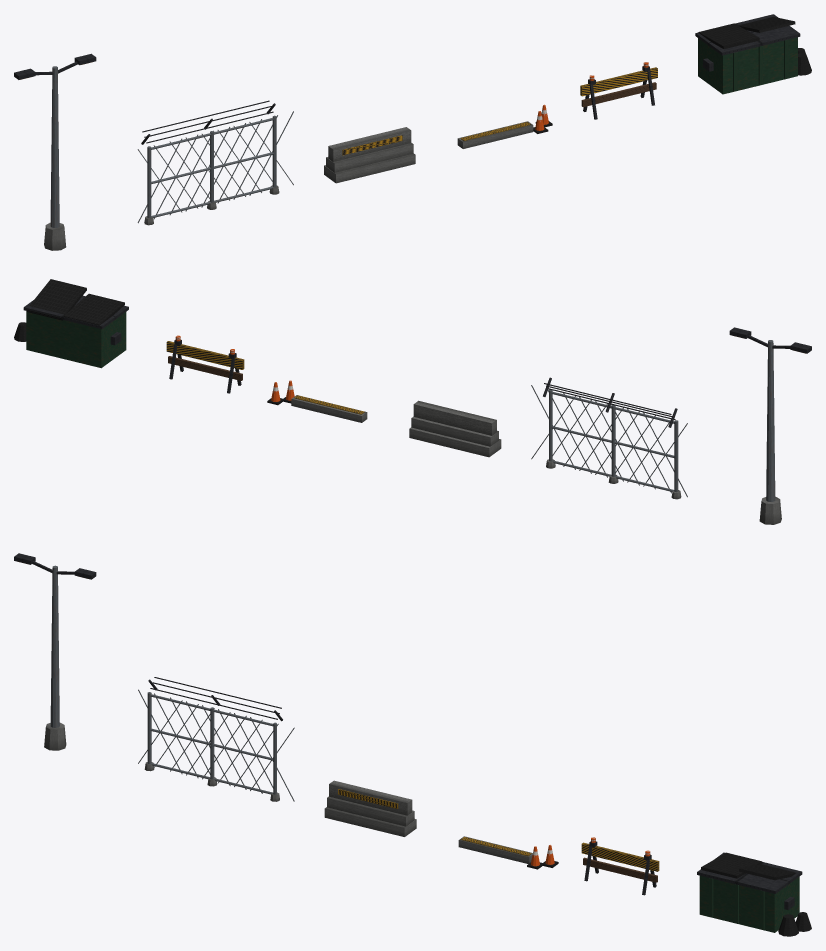
Rendered from Lobby_Pack3_ParkingBorders.fbx.
The picture shows the model from 3 angles, top to bottom: view 1: azimuth 30°, elevation 25°; view 2: azimuth 150°, elevation 25°; view 3: azimuth 330°, elevation 25°; orthographic projection.
Parts seen in each view (by area): view 1: Lobby_Prop_Dumpster, Lobby_Border_ChainFence, Lobby_Border_JerseyBarrier, Lobby_Lot_StreetLamp, Lobby_Prop_SawhorseBarricade, Lobby_Prop_WheelStopAndCone; view 2: Lobby_Prop_Dumpster, Lobby_Border_ChainFence, Lobby_Border_JerseyBarrier, Lobby_Lot_StreetLamp, Lobby_Prop_SawhorseBarricade, Lobby_Prop_WheelStopAndCone; view 3: Lobby_Prop_Dumpster, Lobby_Border_ChainFence, Lobby_Border_JerseyBarrier, Lobby_Lot_StreetLamp, Lobby_Prop_SawhorseBarricade, Lobby_Prop_WheelStopAndCone.
Boxes of the visible parts, left/top/right/bottom form: Lobby_Prop_Dumpster: left=695, top=14, right=811, bottom=94; Lobby_Border_ChainFence: left=137, top=100, right=293, bottom=225; Lobby_Border_JerseyBarrier: left=324, top=127, right=415, bottom=183; Lobby_Lot_StreetLamp: left=14, top=53, right=96, bottom=250; Lobby_Prop_SawhorseBarricade: left=580, top=62, right=657, bottom=119; Lobby_Prop_WheelStopAndCone: left=457, top=104, right=552, bottom=148; Lobby_Prop_Dumpster: left=14, top=279, right=128, bottom=368; Lobby_Border_ChainFence: left=531, top=377, right=687, bottom=499; Lobby_Border_JerseyBarrier: left=409, top=400, right=501, bottom=457; Lobby_Lot_StreetLamp: left=729, top=327, right=811, bottom=524; Lobby_Prop_SawhorseBarricade: left=166, top=335, right=244, bottom=393; Lobby_Prop_WheelStopAndCone: left=267, top=380, right=367, bottom=422; Lobby_Prop_Dumpster: left=697, top=852, right=811, bottom=936; Lobby_Border_ChainFence: left=138, top=677, right=294, bottom=801; Lobby_Border_JerseyBarrier: left=324, top=780, right=416, bottom=836; Lobby_Lot_StreetLamp: left=14, top=553, right=96, bottom=750; Lobby_Prop_SawhorseBarricade: left=581, top=837, right=659, bottom=895; Lobby_Prop_WheelStopAndCone: left=458, top=836, right=558, bottom=869.
Bounding box in the file's own units: 27.77 × 6.08 × 1.63.
1 material, 1 textured.
